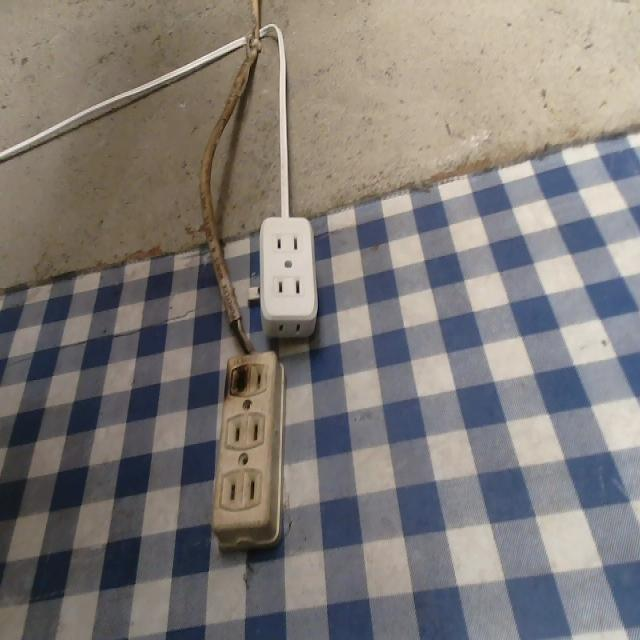-: (224, 355, 253, 404)
